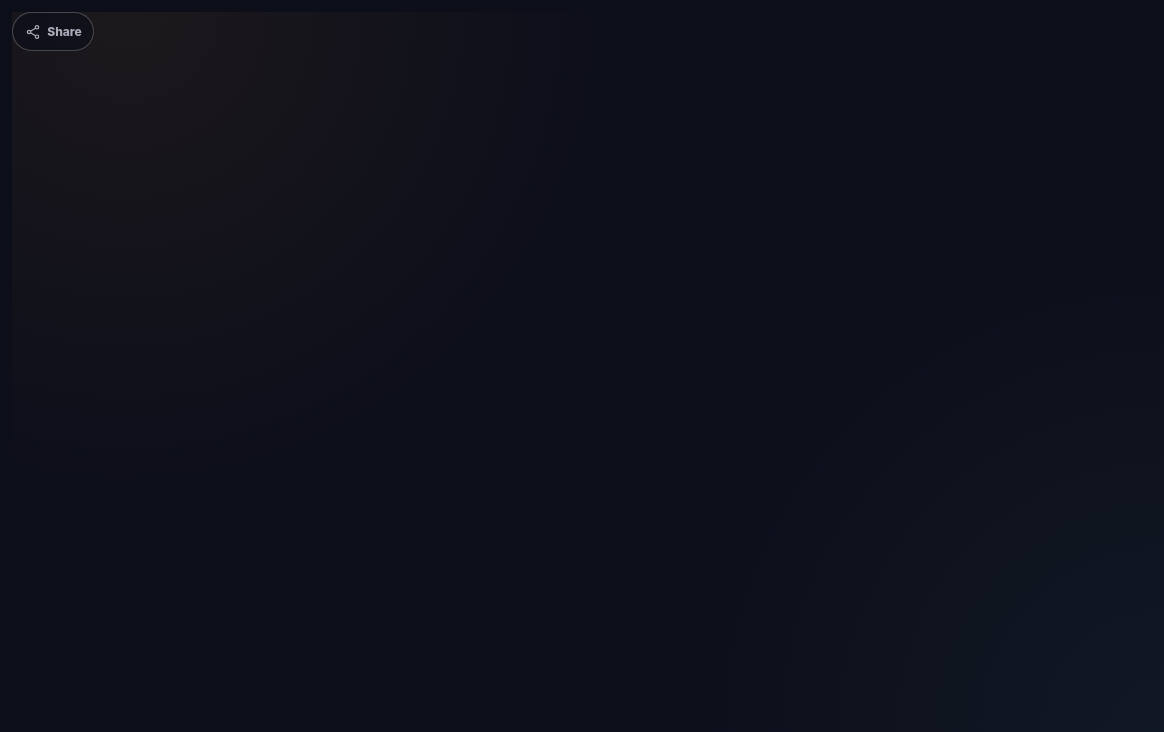
Test: ShareIdeaAction › uses the Web Share API when the browser supports it
This screenshot has width=1164, height=732.
Click the button "Share".
click(53, 32)  # box [12,12,94,51]
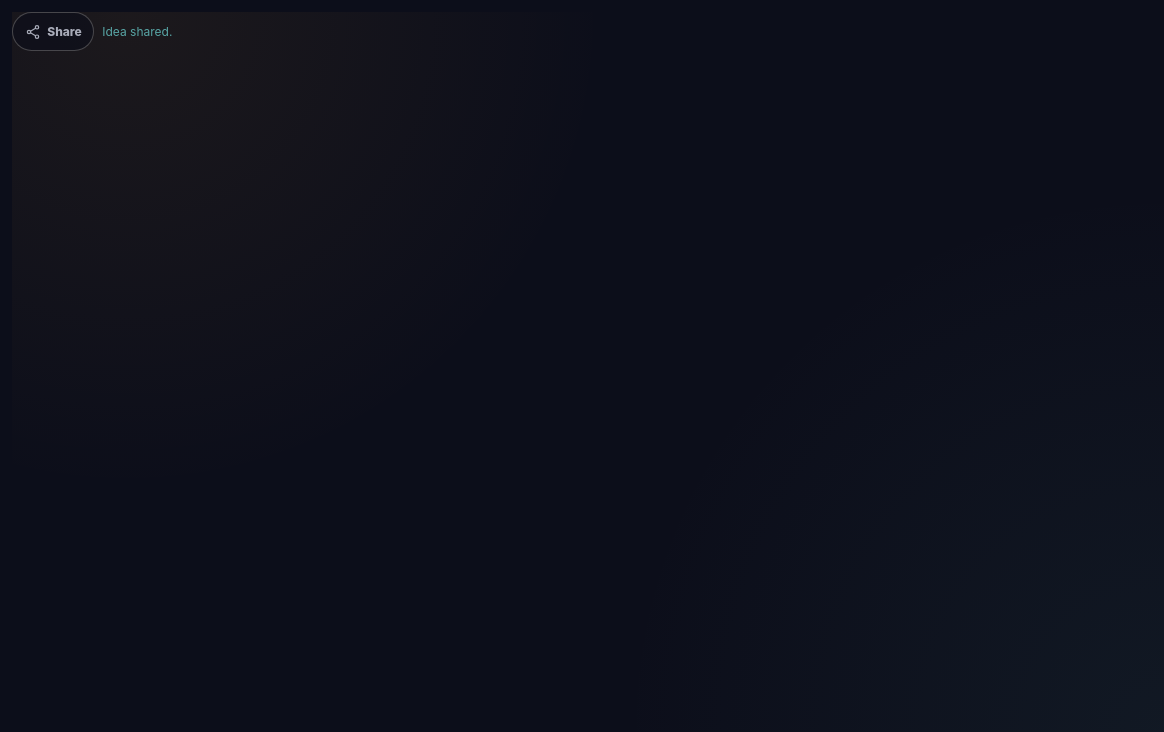
Now the message reads "Idea shared.", box [102,24,172,39]
